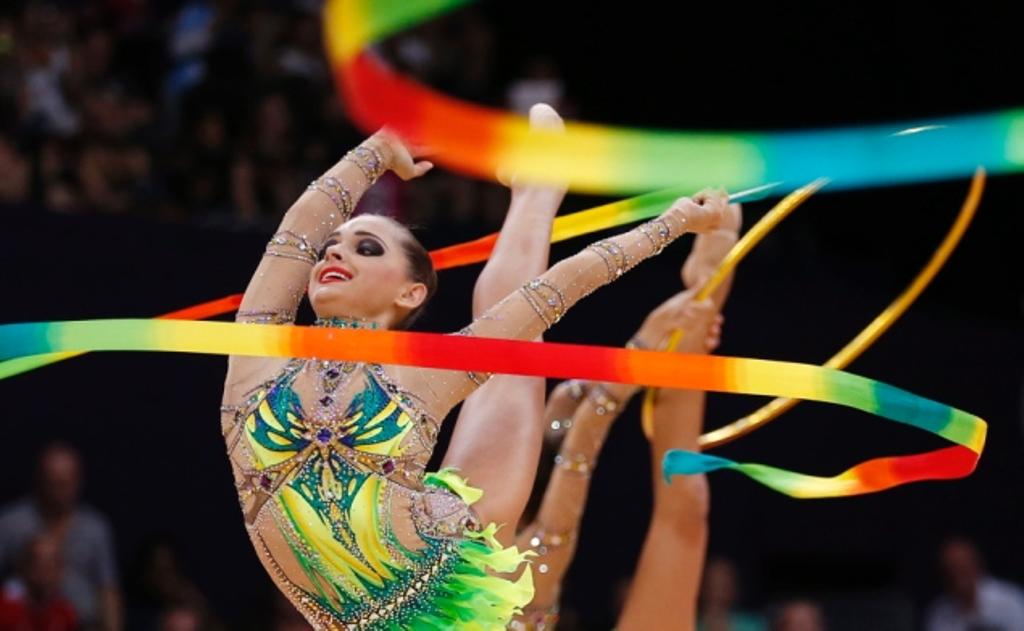face: (310, 210, 406, 302)
